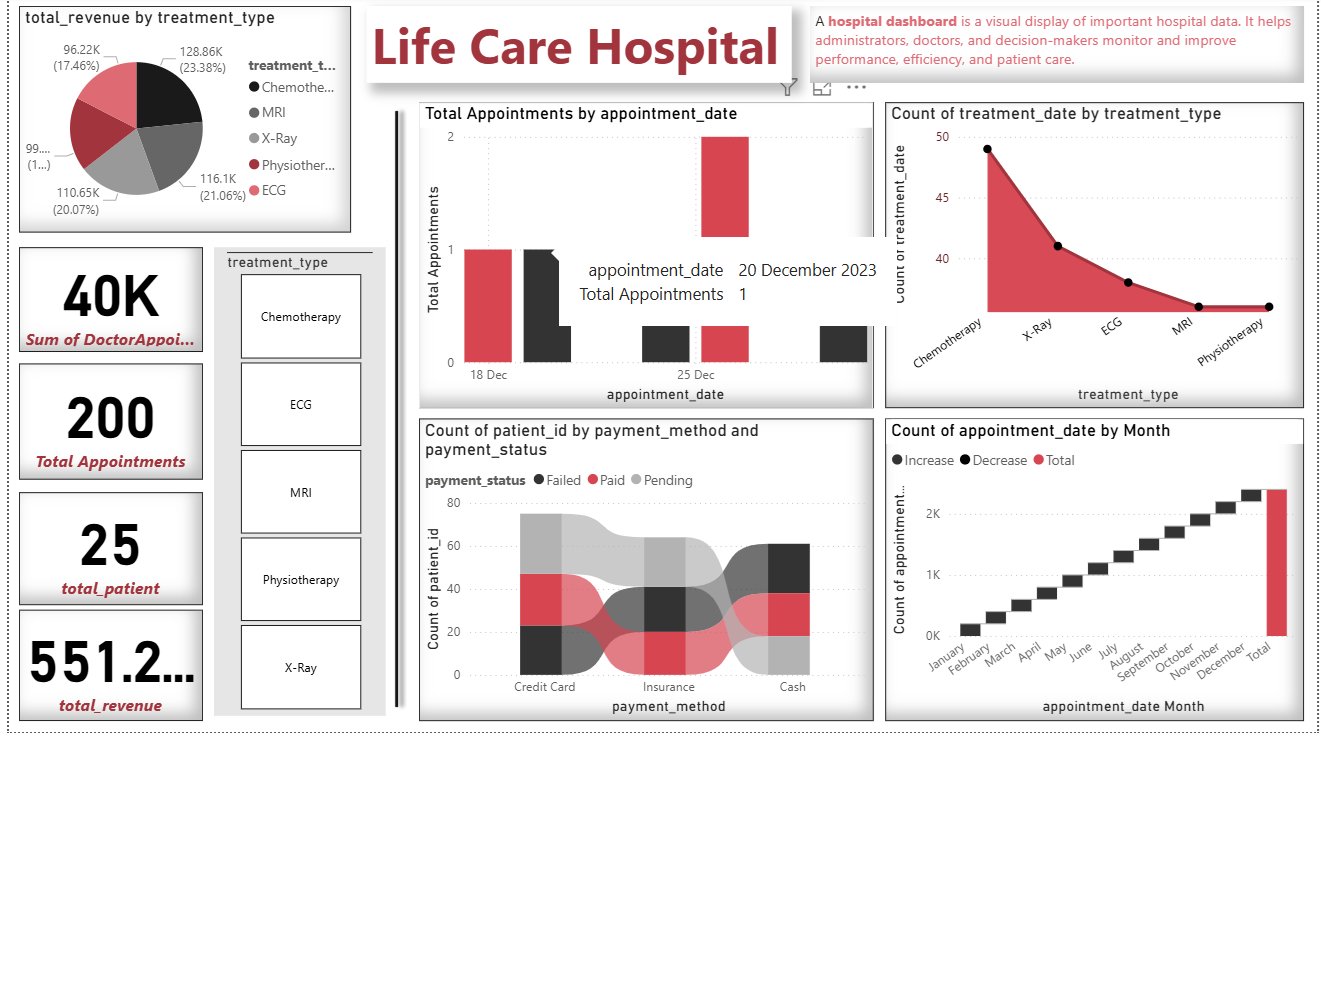

What the dashboard file says about the page in this screenshot:
{"tool":"powerbi","page":{"name":"Page 1","canvas":[1280,720],"ordinal":0},"visuals":[{"type":"pieChart","fields":{"Category":["treatments.treatment_type"],"Y":["billing.total_revenue"]},"box":[10.1,10.1,324.5,221.3],"z":0},{"type":"columnChart","fields":{"Category":["appointments.appointment_date"],"Y":["appointments.Total Appointments"]},"box":[400.6,103.6,444.9,299.5],"z":1000},{"type":"card","fields":{"Values":["appointments.Total Appointments"]},"box":[9.8,359.5,179.8,113.7],"z":2000},{"type":"card","fields":{"Values":["billing.total_revenue"]},"box":[9.8,600.4,179.8,108.8],"z":3000},{"type":"card","fields":{"Values":["Sum(appointments.DoctorAppointments)"]},"box":[9.8,245.8,179.8,102.7],"z":4000},{"type":"ribbonChart","fields":{"Category":["billing.payment_method"],"Y":["CountNonNull(billing.patient_id)"],"Series":["billing.payment_status"]},"box":[400.6,413.3,444.9,295.7],"z":5000},{"type":"areaChart","fields":{"Category":["treatments.treatment_type"],"Y":["CountNonNull(treatments.treatment_date)"]},"box":[856.9,103.6,409.5,299.5],"z":6000},{"type":"card","fields":{"Values":["doctors.total_patient"]},"box":[9.8,485.5,179.8,110.1],"z":7000},{"type":"waterfallChart","fields":{"Category":["patients.appointment_date.Variation.Date Hierarchy.Month","patients.appointment_date.Variation.Date Hierarchy.Day"],"Y":["CountNonNull(appointments.appointment_date)"]},"box":[856.9,413.3,409.5,295.7],"z":8000},{"type":"textbox","box":[349.6,10.1,416.3,75.5],"z":9000},{"type":"textbox","box":[783.5,10.1,482.9,75.5],"z":10000},{"type":"shape","box":[369,103.6,20.2,600.3],"z":11000},{"type":"slicer","fields":{"Values":["treatments.treatment_type"]},"box":[200.9,245.2,168.1,458.8],"z":12000}]}

Visuals, with their boxes in screenshot pixels (x1, y1, x2, y2):
pieChart - treatments.treatment_type x billing.total_revenue: <bbox>27, 7, 358, 232</bbox>
columnChart - appointments.appointment_date x appointments.Total Appointments: <bbox>425, 102, 878, 407</bbox>
card - appointments.Total Appointments: <bbox>27, 362, 210, 478</bbox>
card - billing.total_revenue: <bbox>27, 608, 210, 718</bbox>
card - Sum(appointments.DoctorAppointments): <bbox>27, 247, 210, 351</bbox>
ribbonChart - billing.payment_method x CountNonNull(billing.patient_id): <bbox>425, 417, 878, 718</bbox>
areaChart - treatments.treatment_type x CountNonNull(treatments.treatment_date): <bbox>889, 102, 1306, 407</bbox>
card - doctors.total_patient: <bbox>27, 491, 210, 603</bbox>
waterfallChart - patients.appointment_date.Variation.Date Hierarchy.Month x patients.appointment_date.Variation.Date Hierarchy.Day: <bbox>889, 417, 1306, 718</bbox>
textbox: <bbox>373, 7, 797, 84</bbox>
textbox: <bbox>815, 7, 1306, 84</bbox>
shape: <bbox>393, 102, 413, 713</bbox>
slicer - treatments.treatment_type: <bbox>222, 246, 393, 713</bbox>
